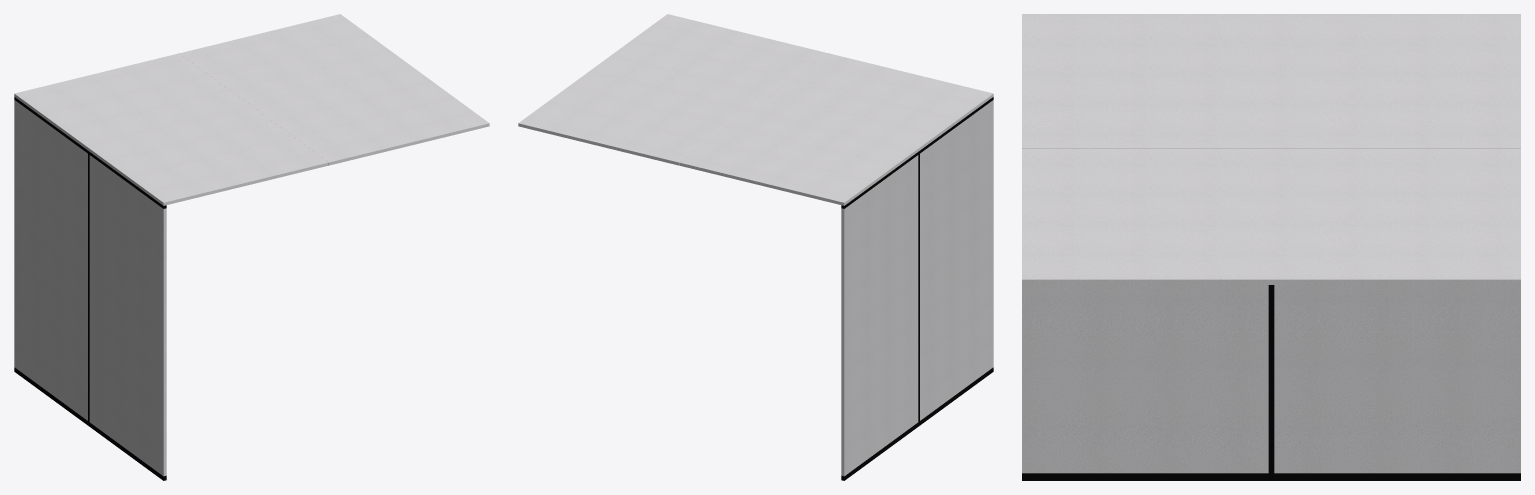
Rendered from rear-top-drywall.glb.
The picture shows the model from 3 angles, left to right: view 1: azimuth 30°, elevation 25°; view 2: azimuth 150°, elevation 25°; view 3: azimuth 270°, elevation 25°; orthographic projection. The views are drawn at different scales.
Parts seen in each view (by area): view 1: Obj_10FT Blank_Drywall_Reartop, 10FT Blank_Drywall_Reartop, Obj_10FT Blank_Drywall_Reartop_1, Obj_10FT Blank_Drywall_Reartop_2, Obj_10FT Blank_Drywall_Reartop_3; view 2: Obj_10FT Blank_Drywall_Reartop, 10FT Blank_Drywall_Reartop, Obj_10FT Blank_Drywall_Reartop_2, Obj_10FT Blank_Drywall_Reartop_1, Obj_10FT Blank_Drywall_Reartop_3; view 3: 10FT Blank_Drywall_Reartop, Obj_10FT Blank_Drywall_Reartop, Obj_10FT Blank_Drywall_Reartop_1, Obj_10FT Blank_Drywall_Reartop_2, Obj_10FT Blank_Drywall_Reartop_3.
Part boxes in pixels (box(x1,y1,x2,y2)): Obj_10FT Blank_Drywall_Reartop: box(14, 53, 328, 205); 10FT Blank_Drywall_Reartop: box(180, 14, 489, 165); Obj_10FT Blank_Drywall_Reartop_1: box(89, 155, 166, 476); Obj_10FT Blank_Drywall_Reartop_2: box(14, 100, 87, 420); Obj_10FT Blank_Drywall_Reartop_3: box(14, 97, 166, 480); Obj_10FT Blank_Drywall_Reartop: box(679, 53, 993, 205); 10FT Blank_Drywall_Reartop: box(518, 14, 827, 165); Obj_10FT Blank_Drywall_Reartop_2: box(841, 155, 918, 476); Obj_10FT Blank_Drywall_Reartop_1: box(920, 100, 993, 420); Obj_10FT Blank_Drywall_Reartop_3: box(841, 97, 993, 480); 10FT Blank_Drywall_Reartop: box(1022, 149, 1520, 284); Obj_10FT Blank_Drywall_Reartop: box(1022, 14, 1520, 148); Obj_10FT Blank_Drywall_Reartop_1: box(1022, 285, 1268, 473); Obj_10FT Blank_Drywall_Reartop_2: box(1274, 285, 1520, 473); Obj_10FT Blank_Drywall_Reartop_3: box(1022, 285, 1520, 480).
Size of the model in its own units: 2.81 by 2.29 by 2.23.
Materials: 2 (1 with a texture image).
